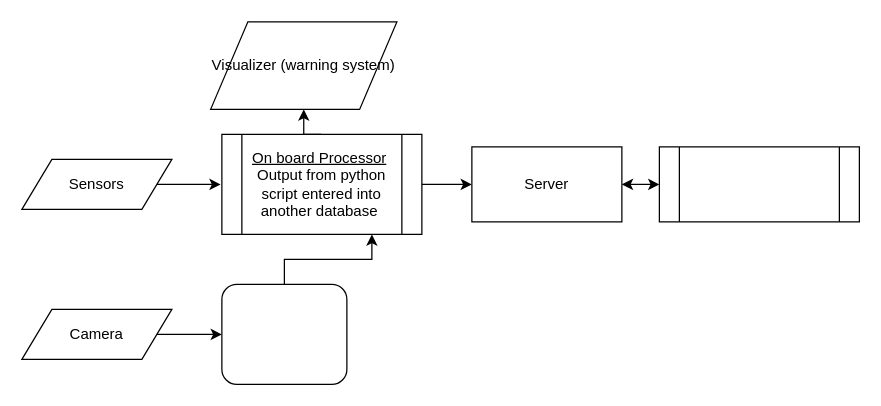
This 881x406 diagram has some shape labels left out. The shapes that lost their labels are listed below. From the top down, each one's centre as x and y in pixels, then its label:
the point at 758,184: Frontend app
the point at 284,333: Object Recognition with learning algorithms
